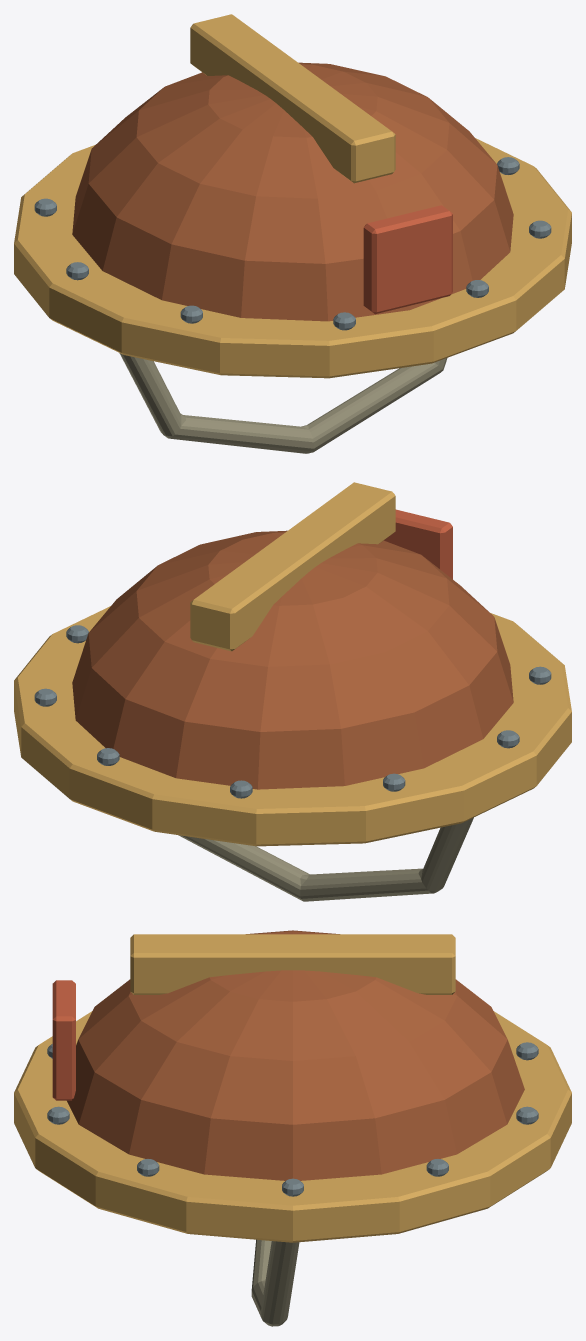
File: WardenHelmet.glb
The picture shows the model from 3 angles, top to bottom: view 1: azimuth 30°, elevation 25°; view 2: azimuth 150°, elevation 25°; view 3: azimuth 270°, elevation 25°; orthographic projection.
Parts seen in each view (by area): view 1: Helmet crown, Helmet brim, Crest, Chin strap, Front badge; view 2: Helmet crown, Helmet brim, Crest, Chin strap, Front badge; view 3: Helmet crown, Helmet brim, Crest, Chin strap, Front badge.
Boxes of the visible parts, x1,y1,x2,y2 form: Helmet crown: (72,62,513,321); Helmet brim: (14,138,571,378); Crest: (190,14,395,183); Chin strap: (119,353,447,453); Front badge: (363,205,452,314); Helmet crown: (72,530,513,789); Helmet brim: (14,606,571,846); Crest: (190,482,395,651); Chin strap: (178,817,473,901); Front badge: (384,509,452,579); Helmet crown: (67,930,524,1180); Helmet brim: (14,1011,571,1242); Crest: (130,934,455,994); Chin strap: (251,1239,299,1326); Front badge: (52,980,75,1100).
Bounding box in the file's own units: 0.6 × 0.4294 × 0.6.
